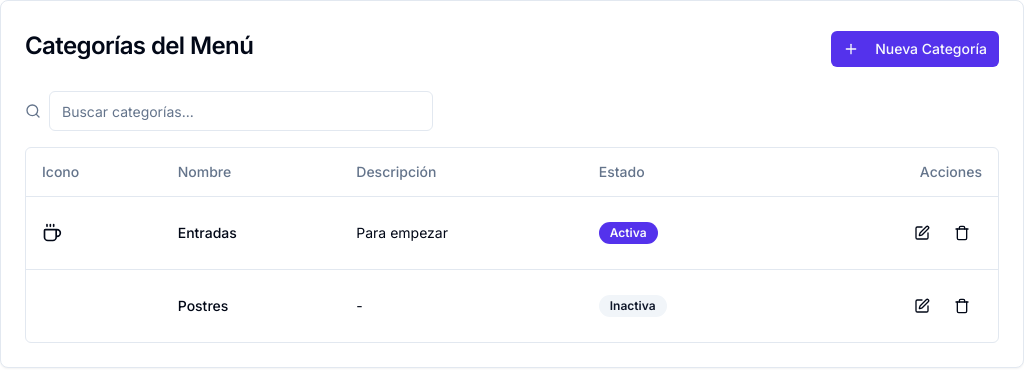
Test case: CategoryList — cached list, invalidated by its own mutations › still shows the search-miss message
The image size is (1024, 385).
Expected: the text "Entradas" is shown, [162, 196, 340, 269]
Type "zzz" into the field with placeholder "Buscar categorías...".
click(241, 111); type("zzz")  # box [49, 91, 433, 131]
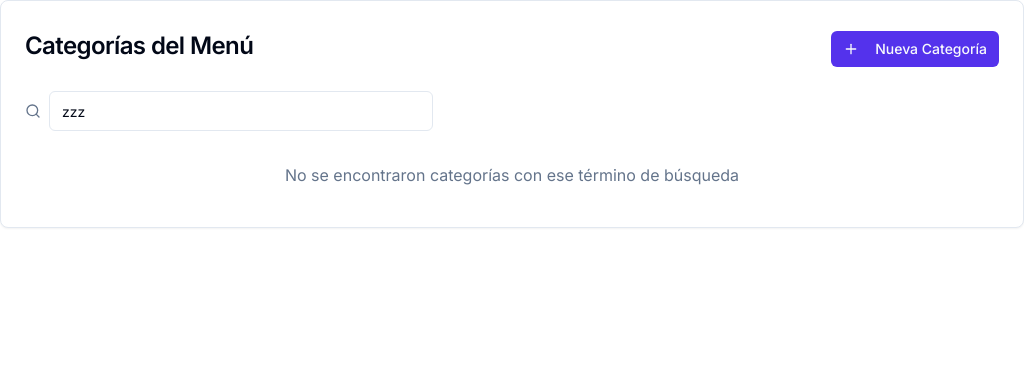
Expected: the text "No se encontraron categorías con ese término de búsqueda" is shown, [285, 165, 739, 185]
